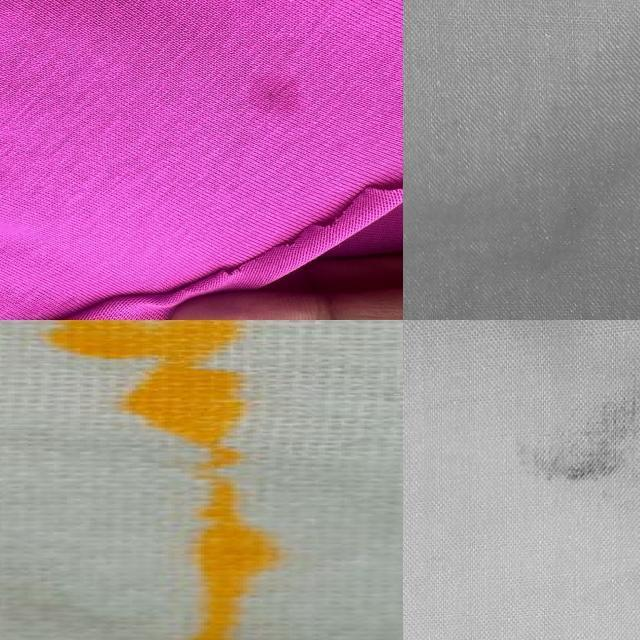Hole: (0, 320, 331, 640), (494, 320, 640, 500), (204, 18, 336, 168)
